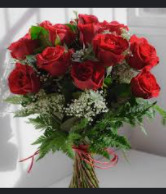RedRose: (127, 33, 162, 72), (2, 62, 41, 96), (91, 31, 128, 65), (36, 45, 73, 76), (129, 69, 162, 102)
